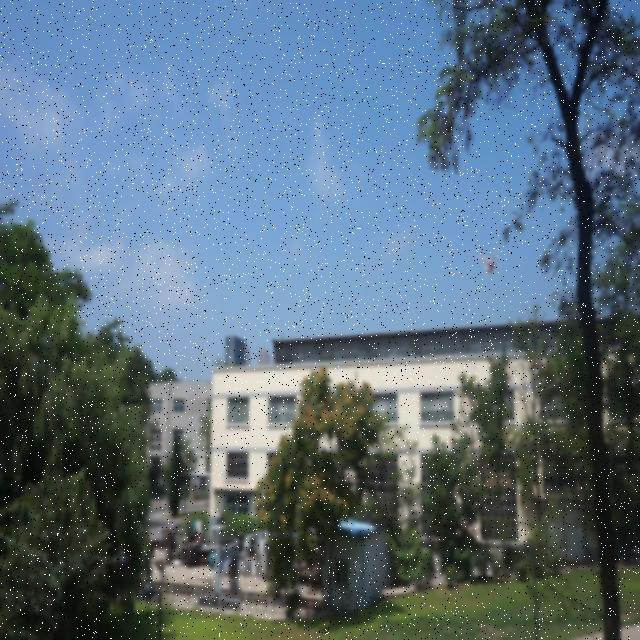UAV: (478, 248, 501, 276)
